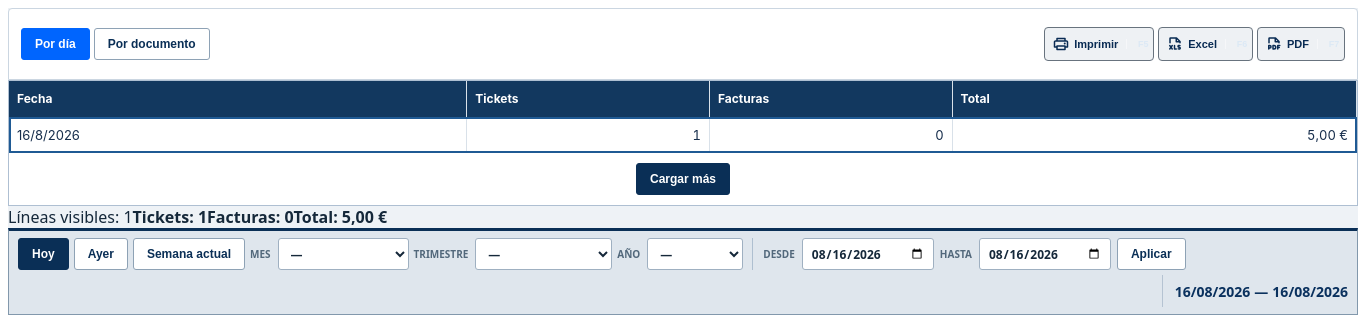
Scenario: SalesReportScreen › restarts DAY pagination on the server date when load more crosses midnight
The image size is (1366, 332).
Click the button "Cargar más": (683, 179) [636,163,730,195]
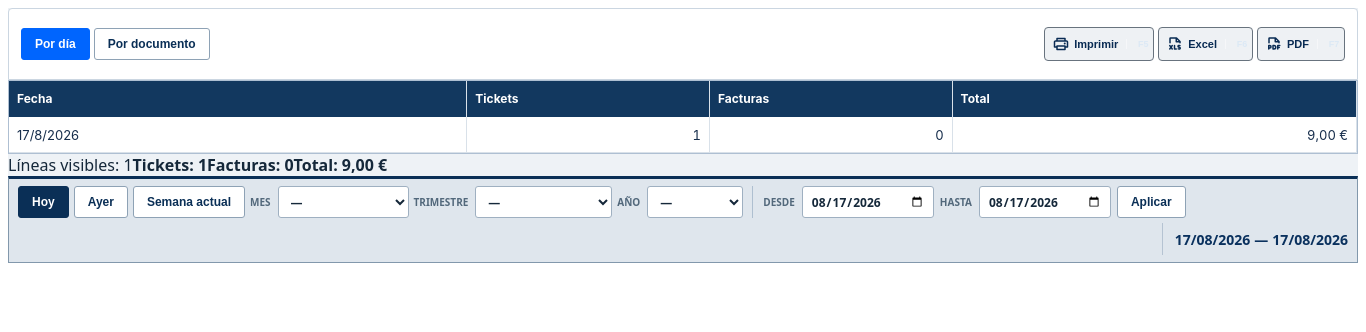
Result: the text "9,00 €" is shown at [953,117,1357,153]
Result: the text "5,00" is gone
